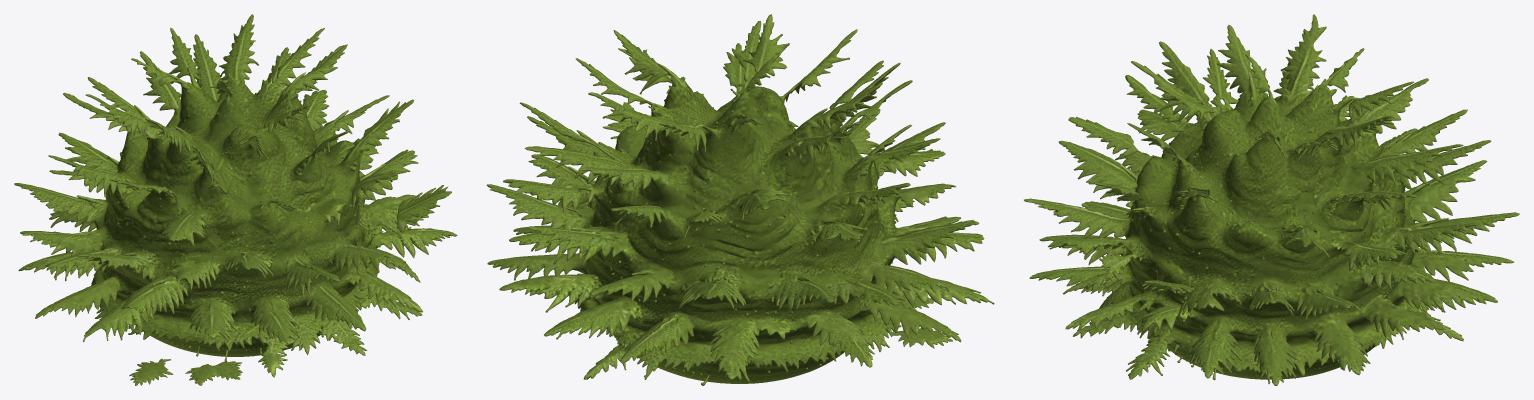
Rendered from fern.glb.
The picture shows the model from 3 angles, left to right: view 1: azimuth 30°, elevation 25°; view 2: azimuth 150°, elevation 25°; view 3: azimuth 270°, elevation 25°; orthographic projection. The views are drawn at different scales.
Visible parts, largest first — view 1: tripo_node_aaee6401-5961-4201-9d87-d83513a32f0e; view 2: tripo_node_aaee6401-5961-4201-9d87-d83513a32f0e; view 3: tripo_node_aaee6401-5961-4201-9d87-d83513a32f0e.
Part boxes in pixels (bbox=[...]): tripo_node_aaee6401-5961-4201-9d87-d83513a32f0e: bbox=[14, 14, 457, 385]; tripo_node_aaee6401-5961-4201-9d87-d83513a32f0e: bbox=[486, 14, 994, 385]; tripo_node_aaee6401-5961-4201-9d87-d83513a32f0e: bbox=[1024, 14, 1519, 385].
Size of the model in its own units: 0.9649 by 0.6331 by 0.979.
Materials: 1 (1 with a texture image).
